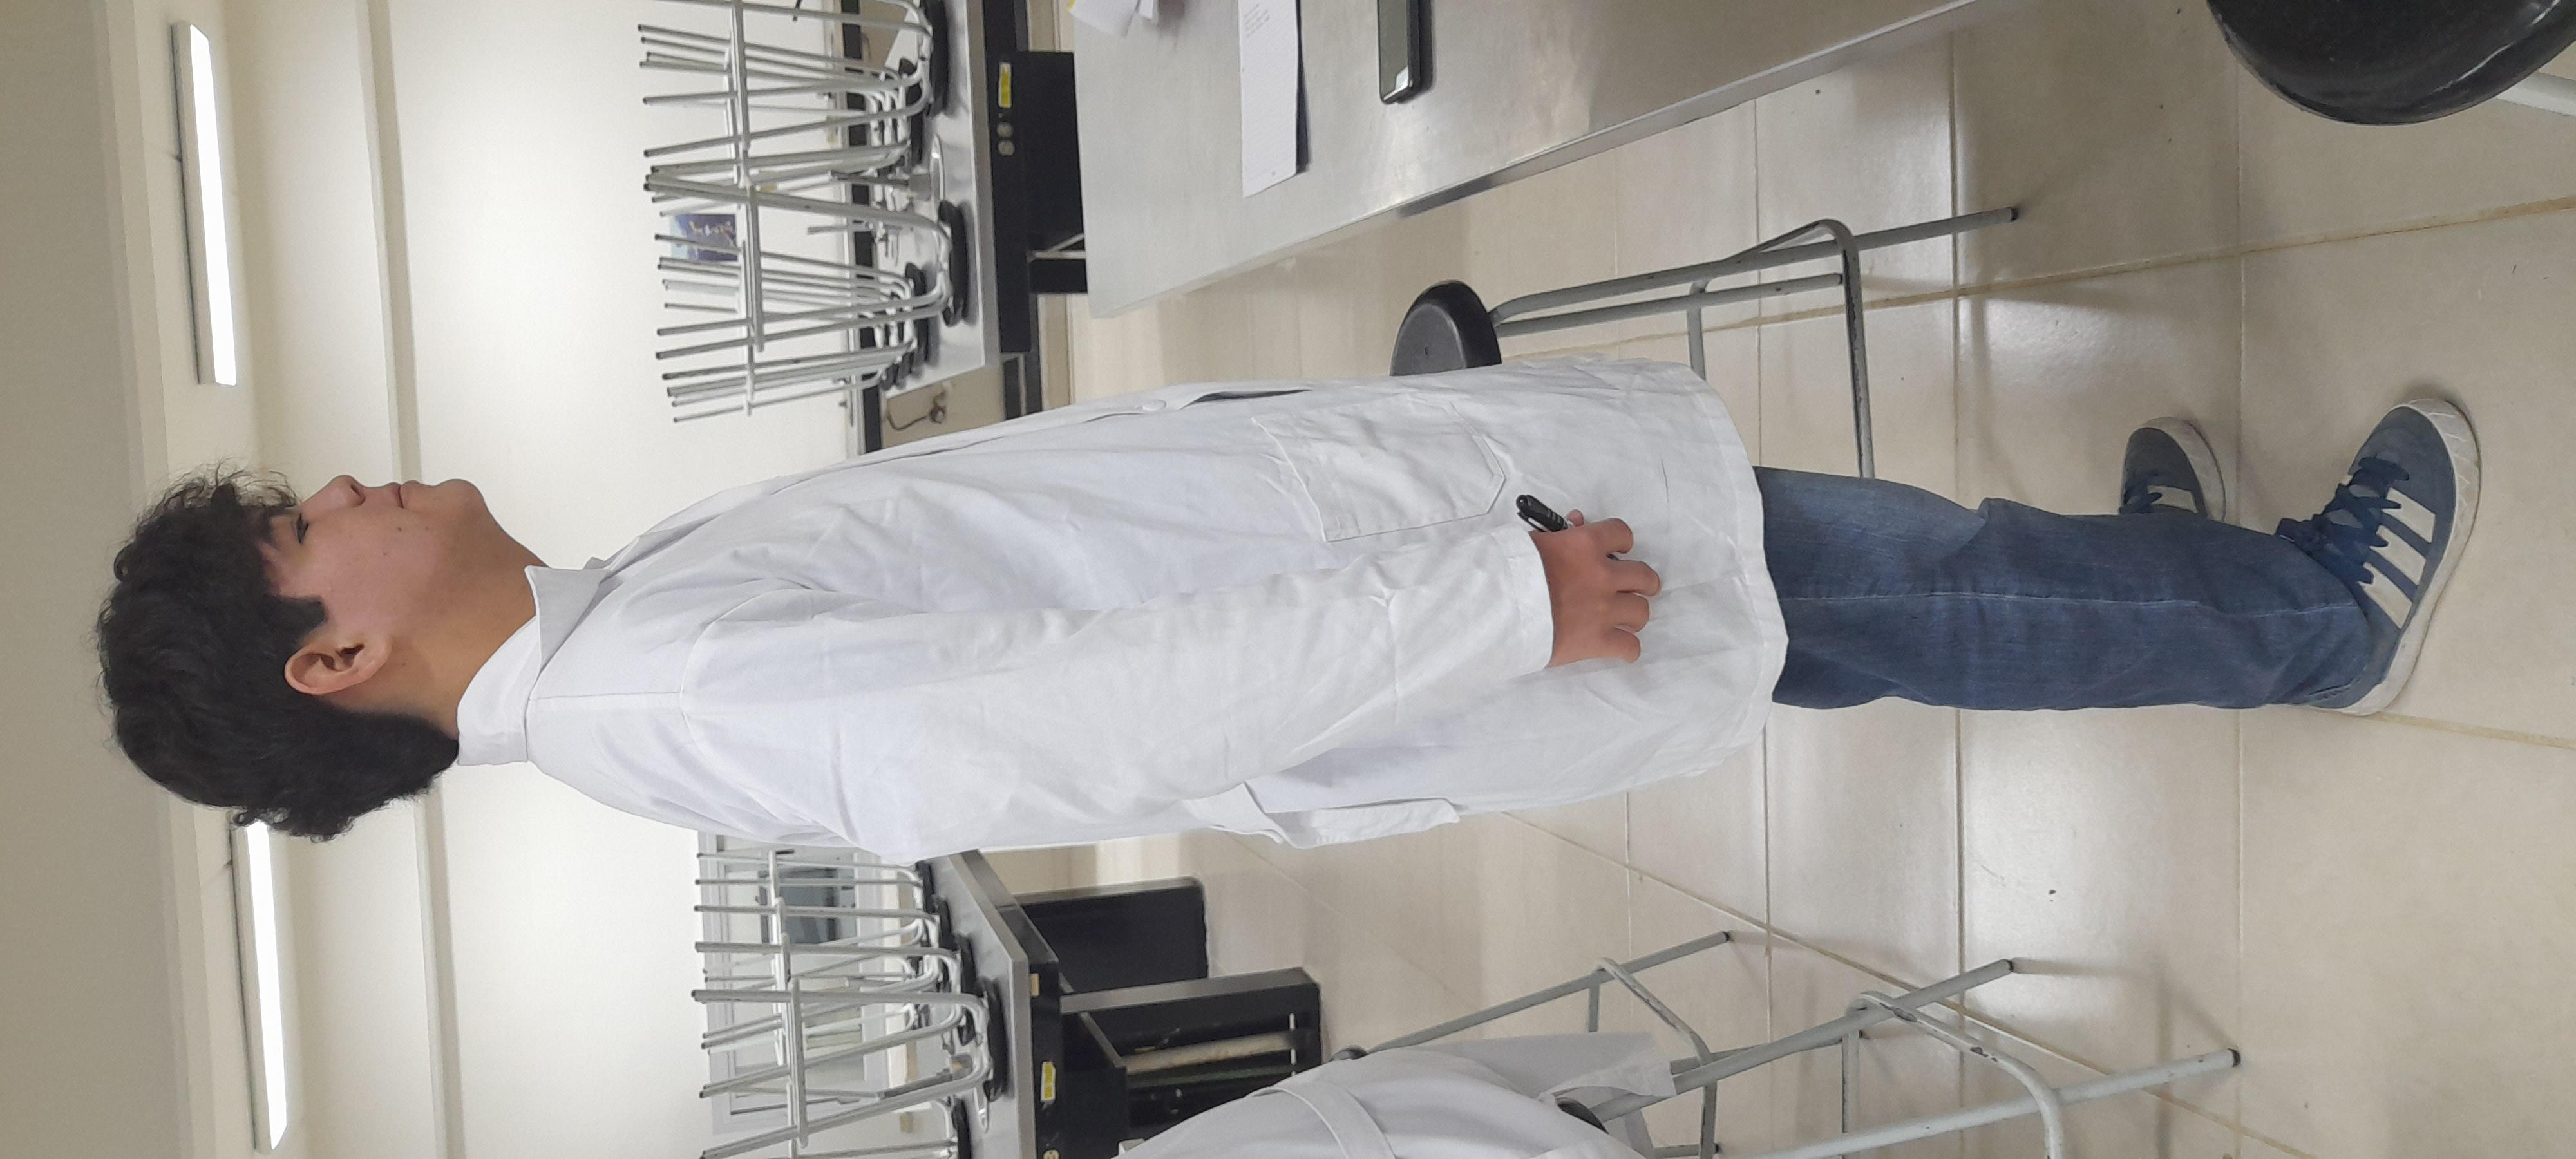Bata-Correcta: (667, 44, 1776, 1115)
